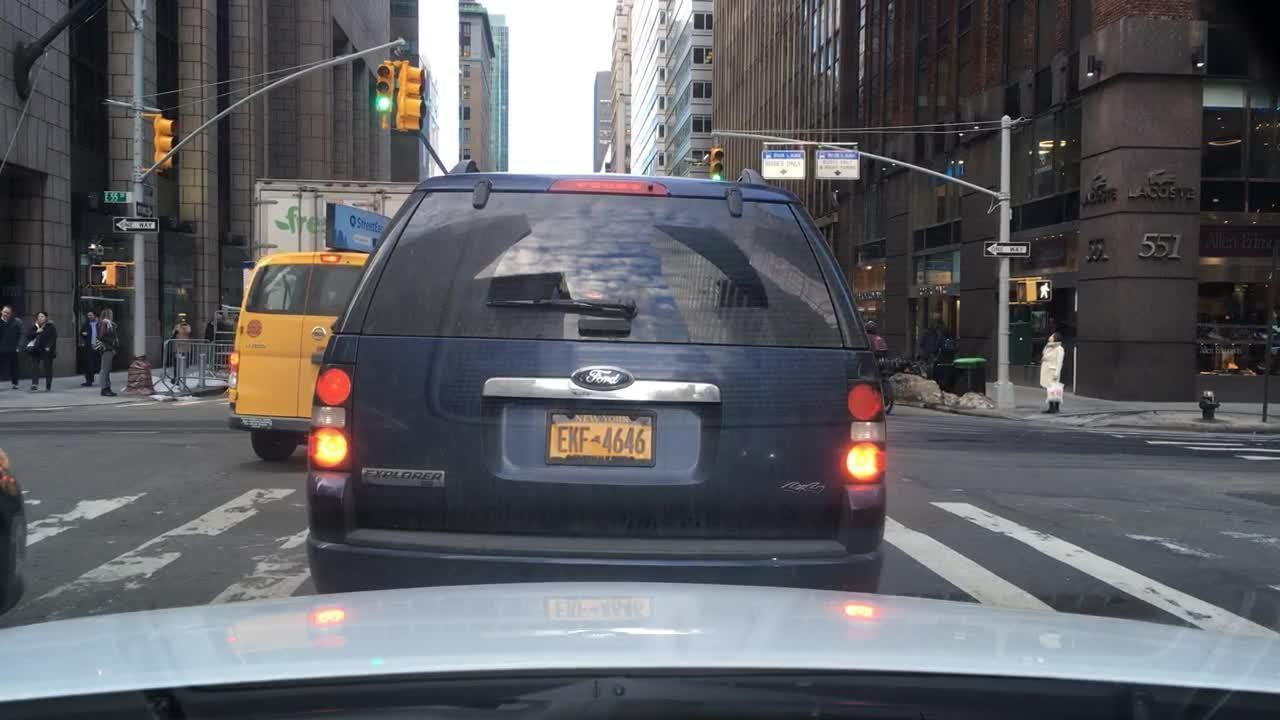Nissan: (309, 325, 327, 343)
ford: (563, 363, 645, 392)
